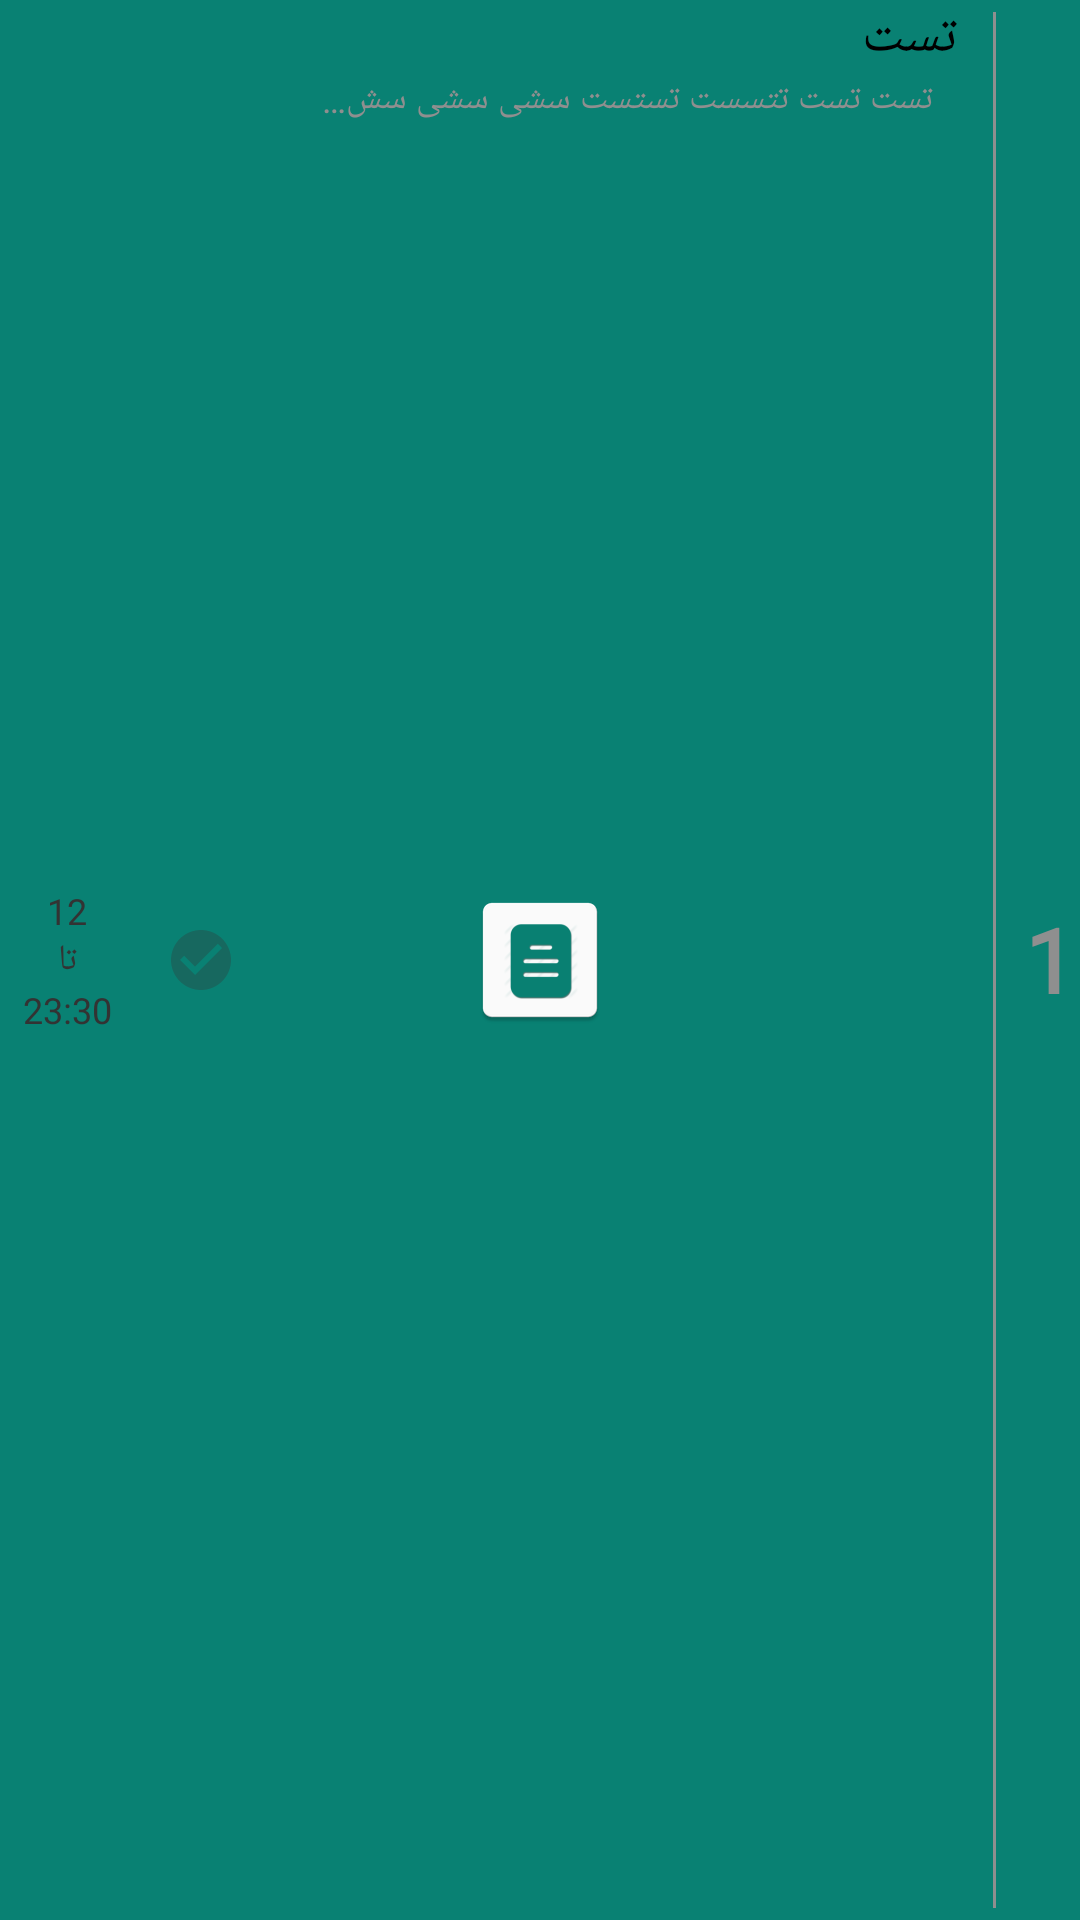

Where icons sit on this 1080px×1920px app screen, as (x1=x1, y1=y1, x2=x2, y2=y2):
check off: (x1=171, y1=930, x2=231, y2=990)
